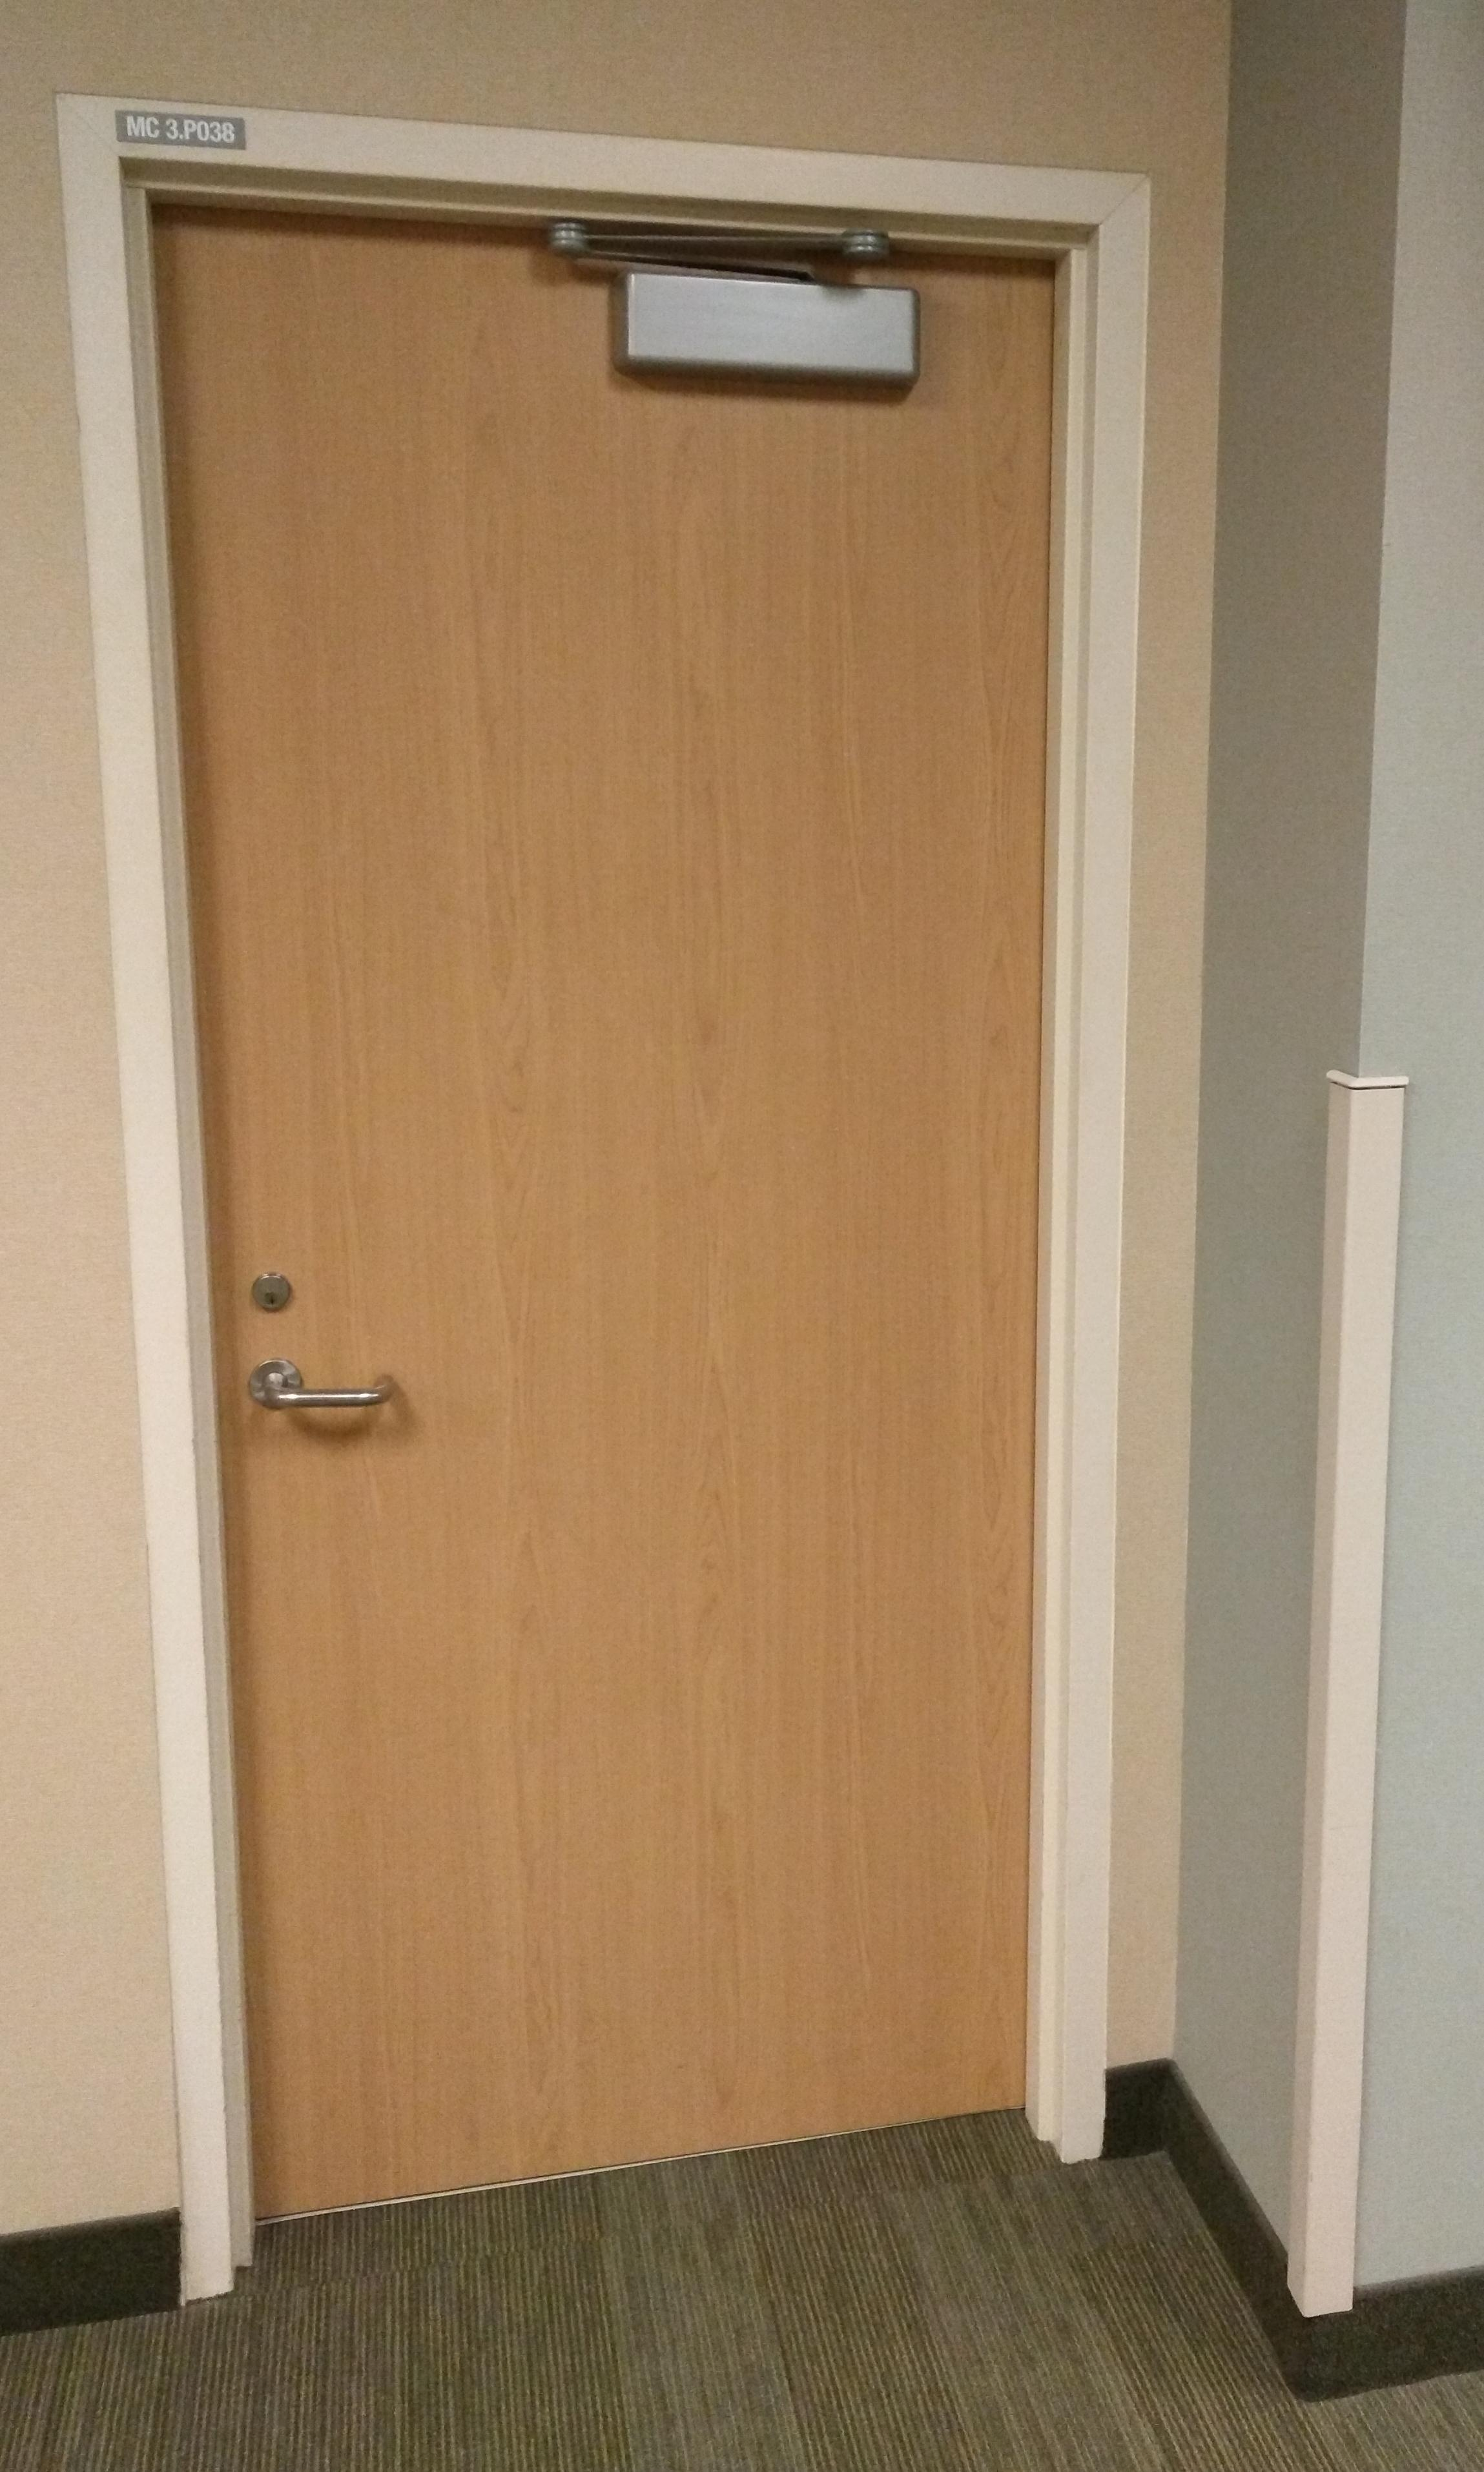door: (62, 95, 1155, 2301)
